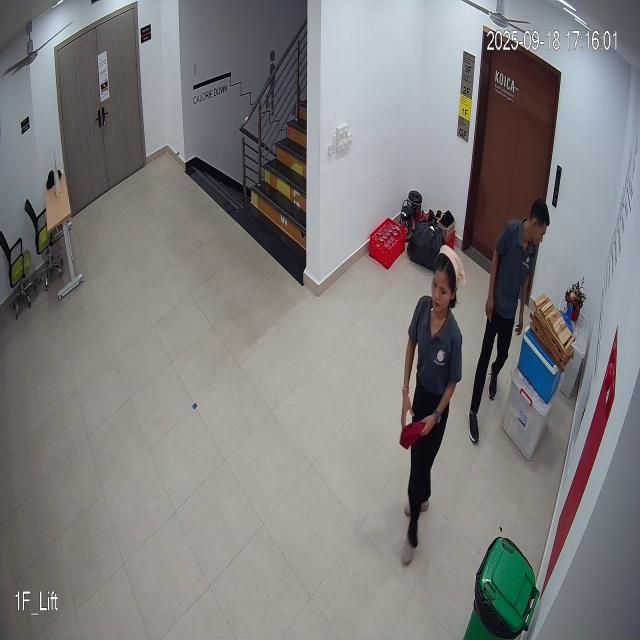face: (429, 244, 462, 316)
